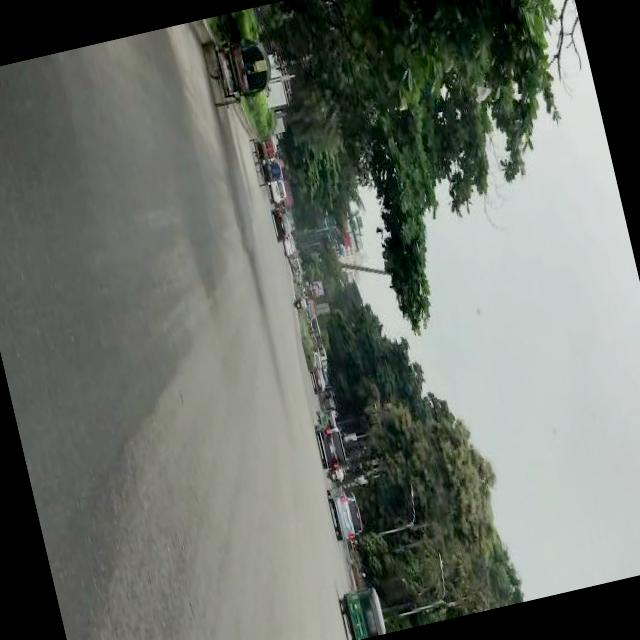car: (270, 208, 291, 242), (309, 368, 327, 398), (284, 240, 296, 258)
motorcycle: (199, 30, 278, 114), (333, 582, 388, 640), (254, 160, 284, 188), (249, 137, 279, 165), (324, 466, 348, 486), (316, 408, 336, 428), (292, 296, 310, 314)
truck: (324, 482, 364, 546), (314, 420, 348, 470), (267, 180, 287, 206)
